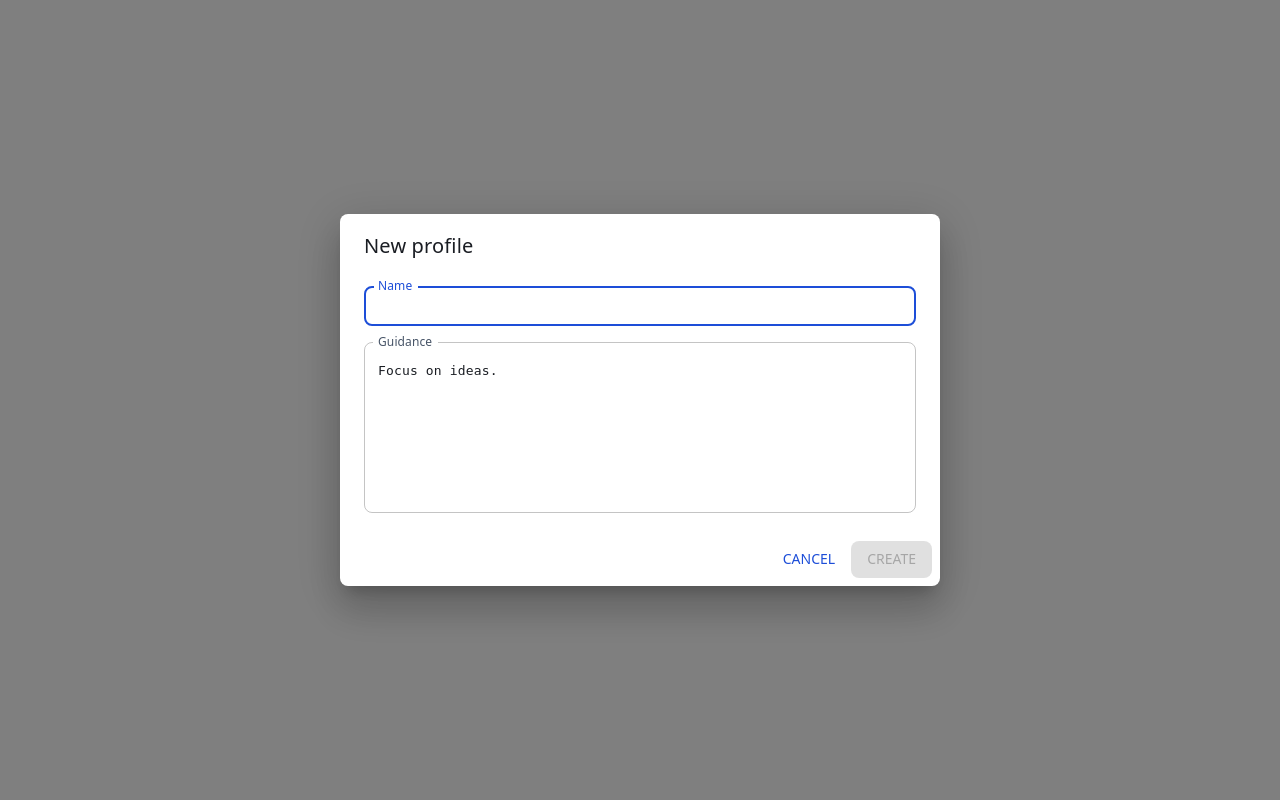
Test: ProfileNameDialog, new profile › disables Create when the guidance is empty
This screenshot has width=1280, height=800.
In the field labelled "Name": (640, 306) [364,286,916,326], type "Research"
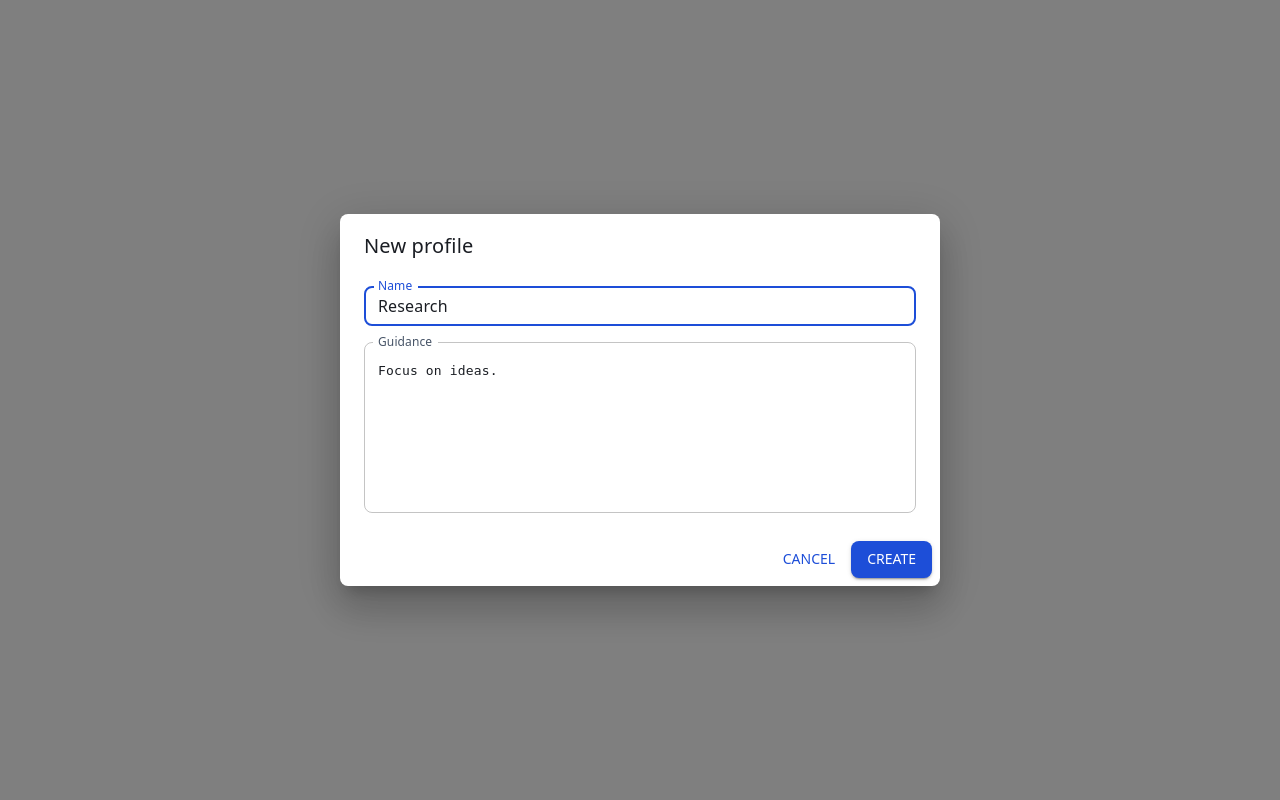
Clear the text box labelled "Guidance": (640, 428) [378,359,902,497]
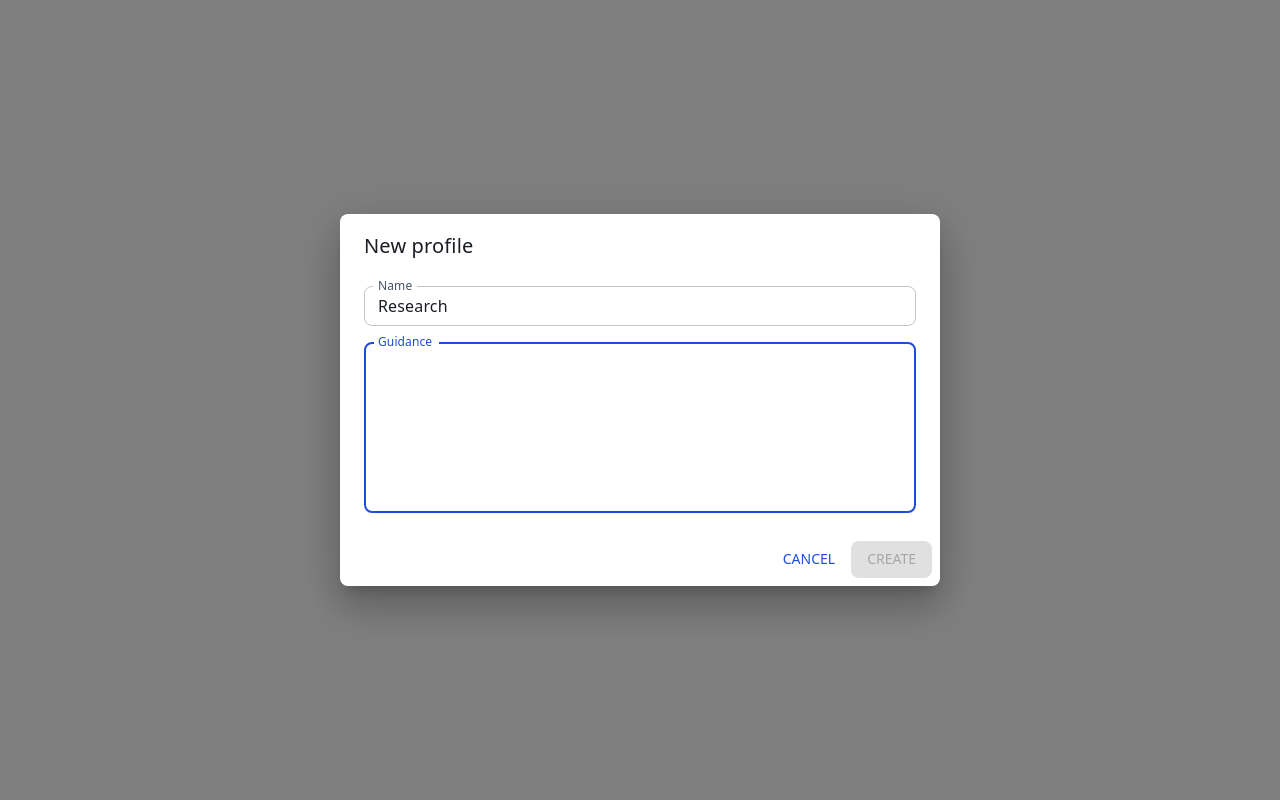
Result: the button "Create" is disabled at [851,541,932,578]
